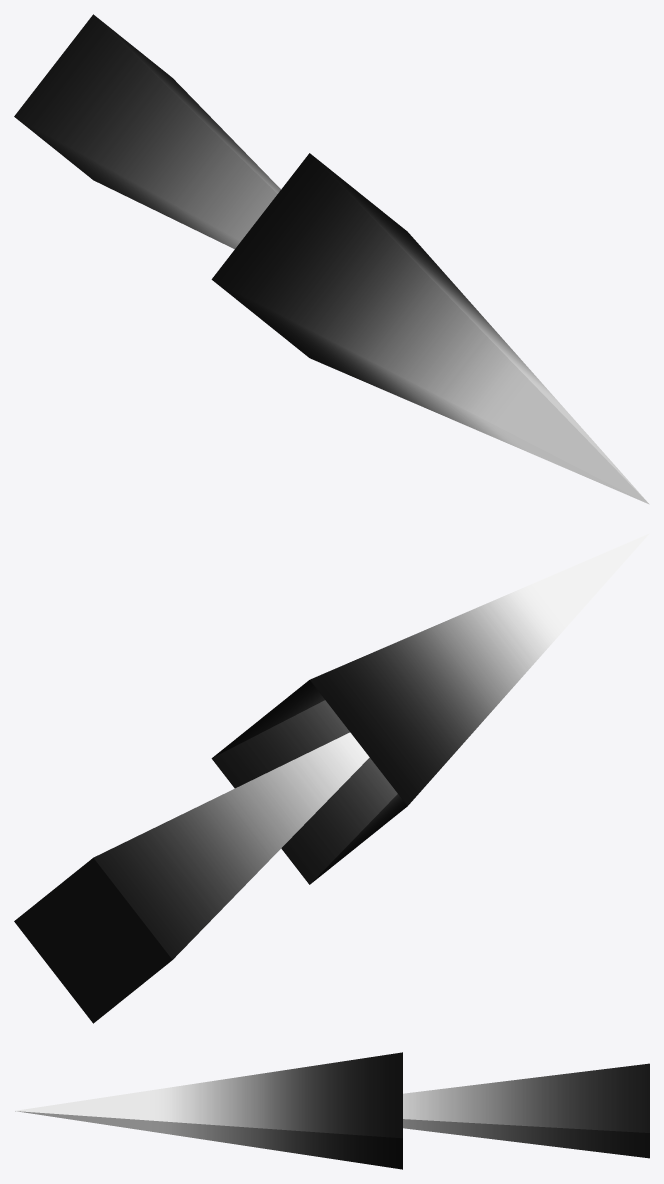
Rendered from BulletTrail.glb.
3 renders of one model, top to bottom at view 1: azimuth 30°, elevation 25°; view 2: azimuth 150°, elevation 25°; view 3: azimuth 270°, elevation 25°, orthographic. The views are drawn at different scales.
Parts seen in each view (by area): view 1: Cube; view 2: Cube; view 3: Cube.
Boxes of the visible parts, x1,y1,x2,y2 form: Cube: (14, 14, 649, 504); Cube: (14, 533, 649, 1023); Cube: (15, 1052, 649, 1169).
Size of the model in its own units: 0.6741 by 0.6741 by 3.31.
Materials: 1 (1 with a texture image).
